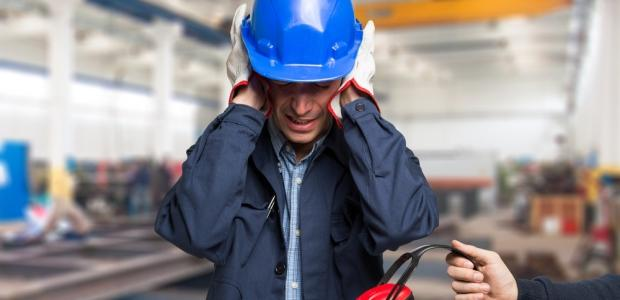helmet: (239, 1, 365, 85)
